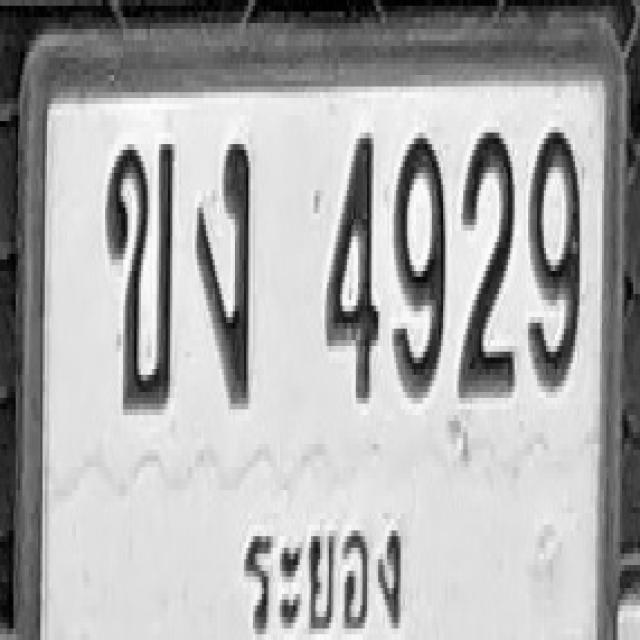11KhorKhai: (105, 138, 175, 410)
16NgorNgu: (196, 138, 249, 404)
2: (458, 127, 514, 392)
4: (325, 132, 378, 398)
9: (528, 127, 580, 386), (393, 133, 444, 392)
Rayong: (224, 473, 409, 640)
